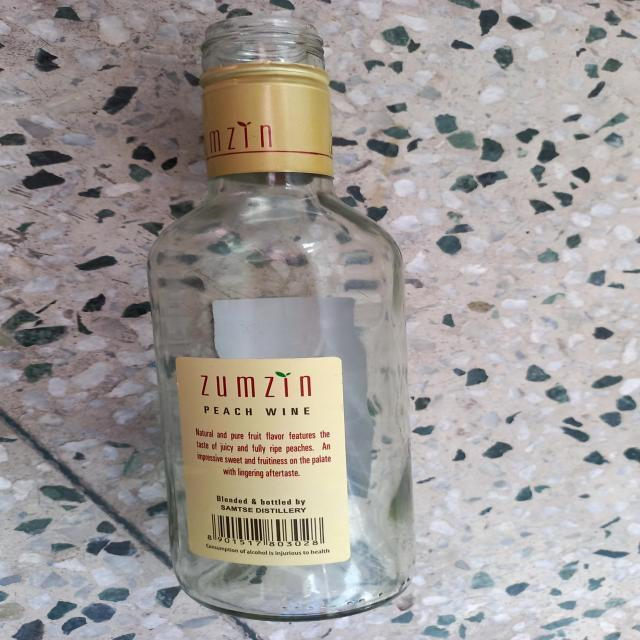Glass: (145, 15, 418, 623)
